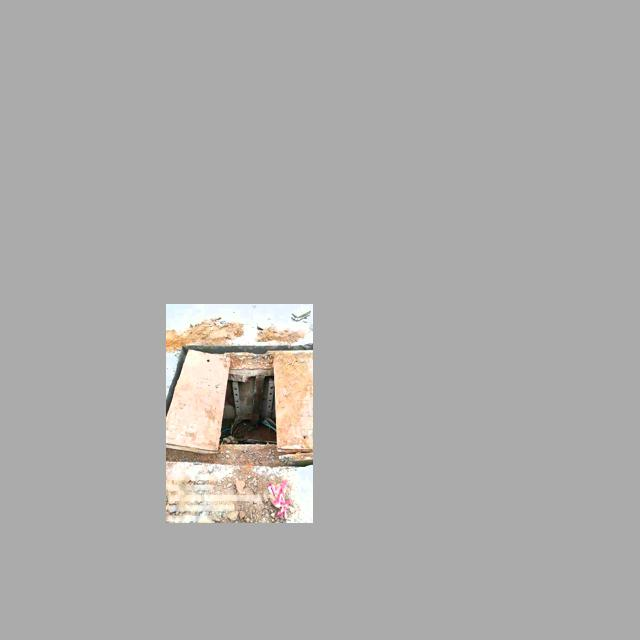uncovered: (166, 342, 312, 464)
